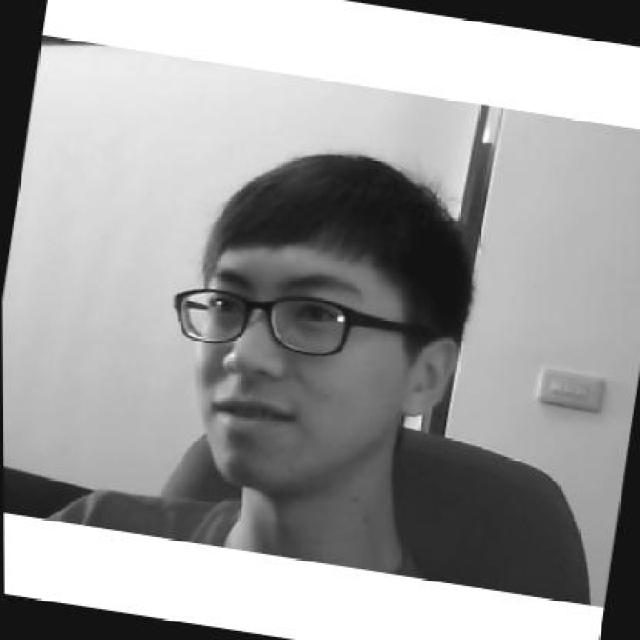attentif: (144, 127, 487, 515)
